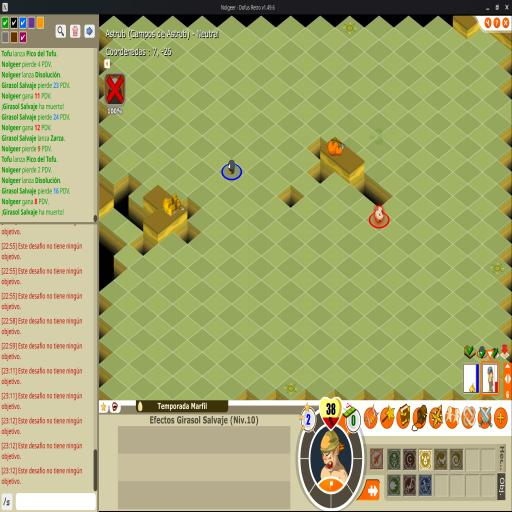Enemigos: (227, 160, 236, 176)
Personaje: (374, 205, 384, 224)
